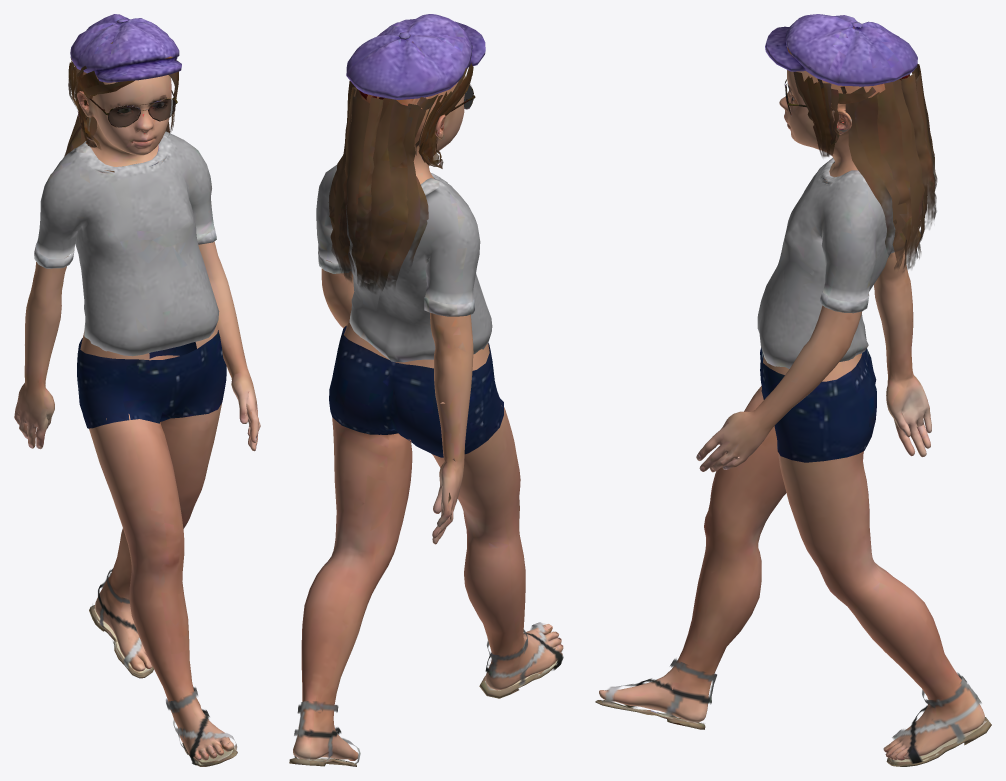
3 views of the same model, side by side, from view 1: azimuth 30°, elevation 25°; view 2: azimuth 150°, elevation 25°; view 3: azimuth 270°, elevation 25° (orthographic). The views are drawn at different scales.
Visible parts, largest first — view 1: p02130; view 2: p02130; view 3: p02130.
Part boxes in pixels (<box>): p02130: <box>14,14,260,766</box>; p02130: <box>289,14,563,766</box>; p02130: <box>595,14,991,766</box>.
Bounding box in the file's own units: 0.3263 × 1.29 × 0.6421.
1 material, 1 textured.
